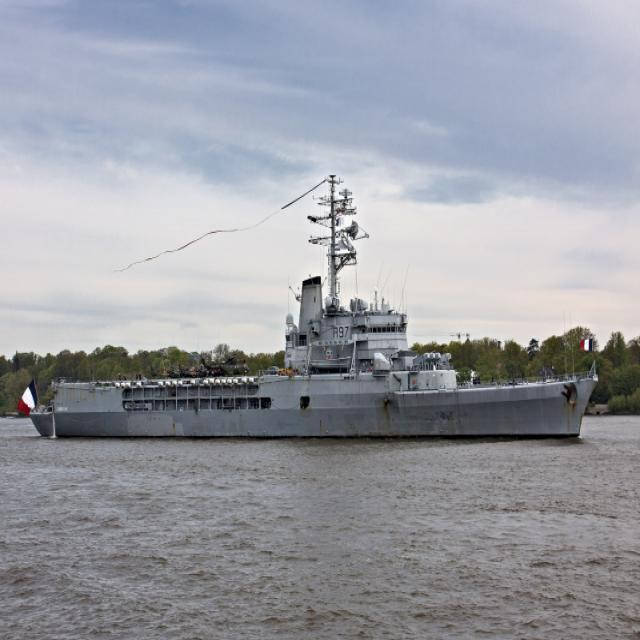Portanaves: (25, 169, 604, 444)
